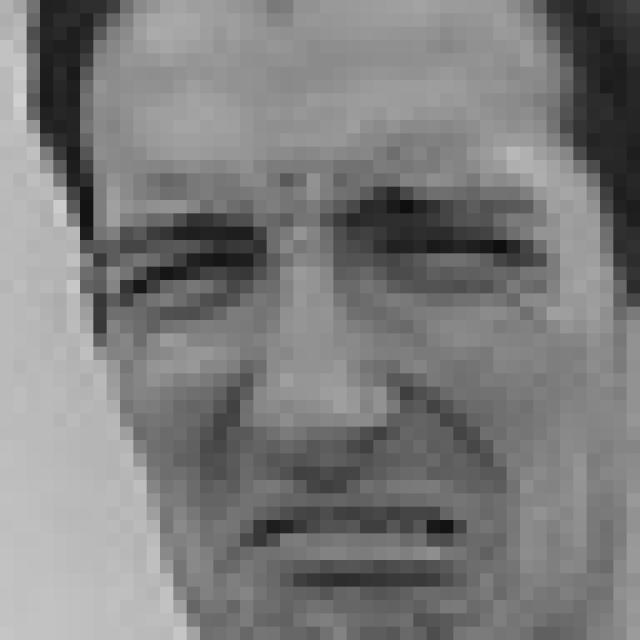disgust: (97, 176, 558, 601)
